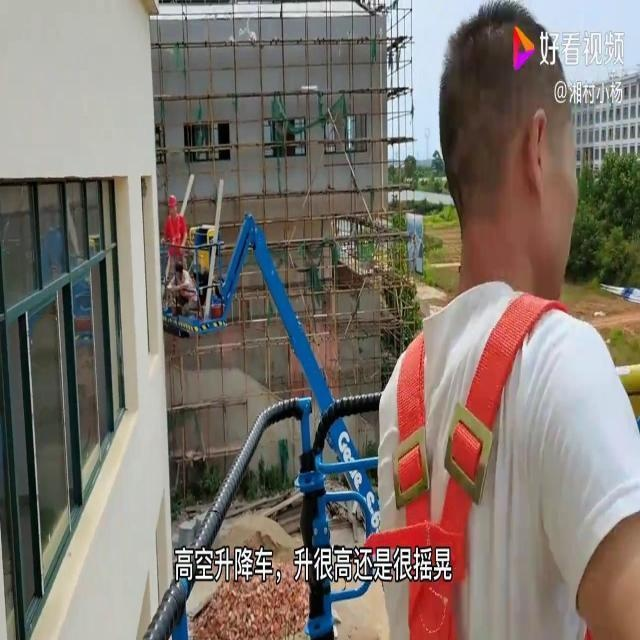Arnes_seguridad: (383, 277, 572, 639)
